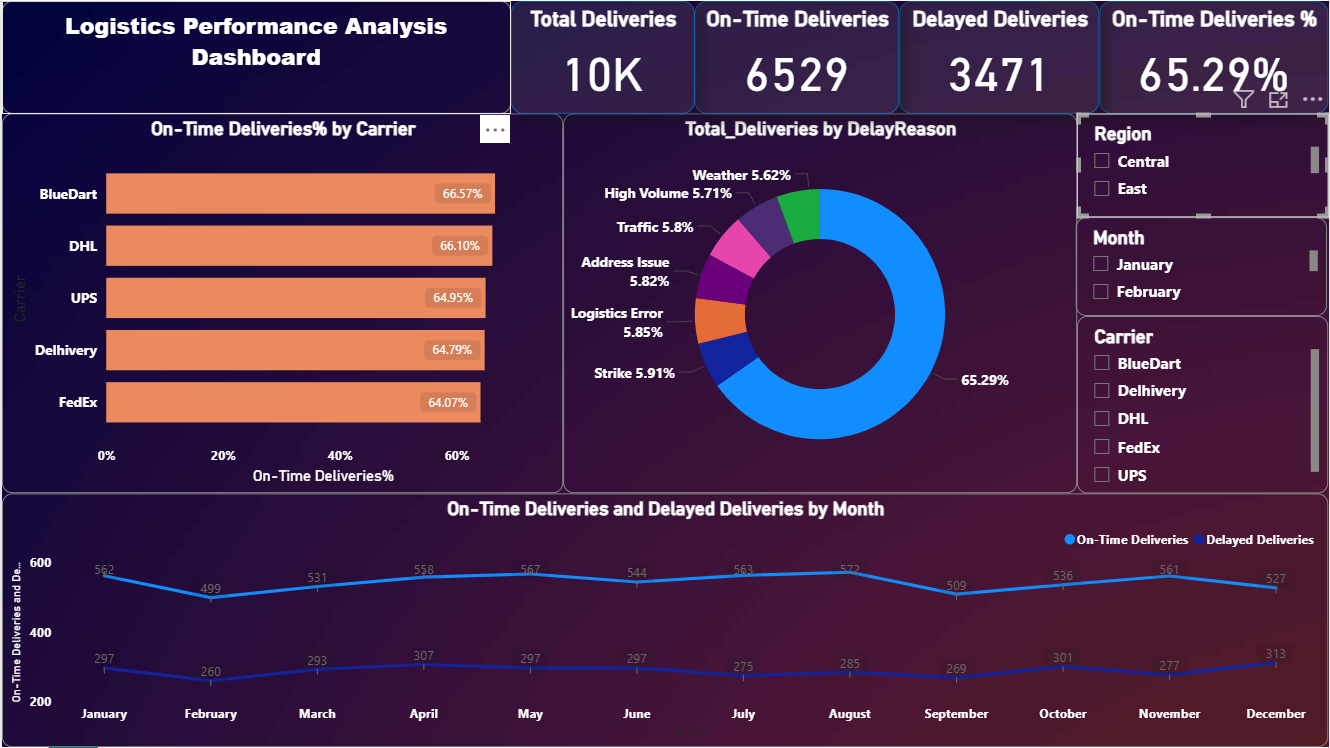

What the dashboard file says about the page in this screenshot:
{"tool":"powerbi","page":{"name":"Page 1","canvas":[1280,720],"ordinal":0},"visuals":[{"type":"card","title":"On-Time Deliveries %","fields":{"Values":["Large_Logistics_Delivery_Data.On-Time Deliveries%"]},"box":[1059.3,0,220.8,108.6],"z":0},{"type":"lineChart","fields":{"Category":["Large_Logistics_Delivery_Data.OrderDate.Variation.Date Hierarchy.Month"],"Y":["Large_Logistics_Delivery_Data.On-Time Deliveries","Large_Logistics_Delivery_Data.Delayed Deliveries"]},"box":[0,475.3,1280,244.9],"z":1000},{"type":"barChart","fields":{"Category":["Large_Logistics_Delivery_Data.Carrier"],"Y":["Large_Logistics_Delivery_Data.On-Time Deliveries%"]},"box":[0,108.6,541.7,366.8],"z":2000},{"type":"donutChart","fields":{"Category":["Large_Logistics_Delivery_Data.DelayReason"],"Y":["Large_Logistics_Delivery_Data.Total_Deliveries"]},"box":[541.7,108.6,495.8,366.8],"z":3000},{"type":"card","title":"Delayed Deliveries","fields":{"Values":["Large_Logistics_Delivery_Data.Delayed Deliveries"]},"box":[866.2,0,193,108.6],"z":4000},{"type":"card","title":"On-Time Deliveries","fields":{"Values":["Large_Logistics_Delivery_Data.On-Time Deliveries"]},"box":[668.4,0,197.9,108.6],"z":5000},{"type":"card","title":"Total Deliveries","fields":{"Values":["Large_Logistics_Delivery_Data.Total_Deliveries"]},"box":[491,0,177.3,108.6],"z":6000},{"type":"slicer","fields":{"Values":["Large_Logistics_Delivery_Data.Carrier"]},"box":[1037.5,304,242.5,171.3],"z":7000},{"type":"slicer","fields":{"Values":["Large_Logistics_Delivery_Data.ActualDeliveryDate.Variation.Date Hierarchy.Month"]},"box":[1036.3,208.7,242.5,95.3],"z":8000},{"type":"textbox","box":[0,0,491,108.6],"z":10000},{"type":"slicer","fields":{"Values":["Large_Logistics_Delivery_Data.Region"]},"box":[1037.5,108.6,242.5,100.1],"z":10001}]}

Visuals, with their boxes in screenshot pixels (x1, y1, x2, y2), scaled from the page's 1280x720 canvas onto the 1330x748 screenshot:
"On-Time Deliveries %" card: 1101, 0, 1329, 113
lineChart - Large_Logistics_Delivery_Data.OrderDate.Variation.Date Hierarchy.Month x Large_Logistics_Delivery_Data.On-Time Deliveries: 0, 494, 1329, 747
barChart - Large_Logistics_Delivery_Data.Carrier x Large_Logistics_Delivery_Data.On-Time Deliveries%: 0, 113, 563, 494
donutChart - Large_Logistics_Delivery_Data.DelayReason x Large_Logistics_Delivery_Data.Total_Deliveries: 563, 113, 1078, 494
"Delayed Deliveries" card: 900, 0, 1101, 113
"On-Time Deliveries" card: 695, 0, 900, 113
"Total Deliveries" card: 510, 0, 694, 113
slicer - Large_Logistics_Delivery_Data.Carrier: 1078, 316, 1329, 494
slicer - Large_Logistics_Delivery_Data.ActualDeliveryDate.Variation.Date Hierarchy.Month: 1077, 217, 1329, 316
textbox: 0, 0, 510, 113
slicer - Large_Logistics_Delivery_Data.Region: 1078, 113, 1329, 217
